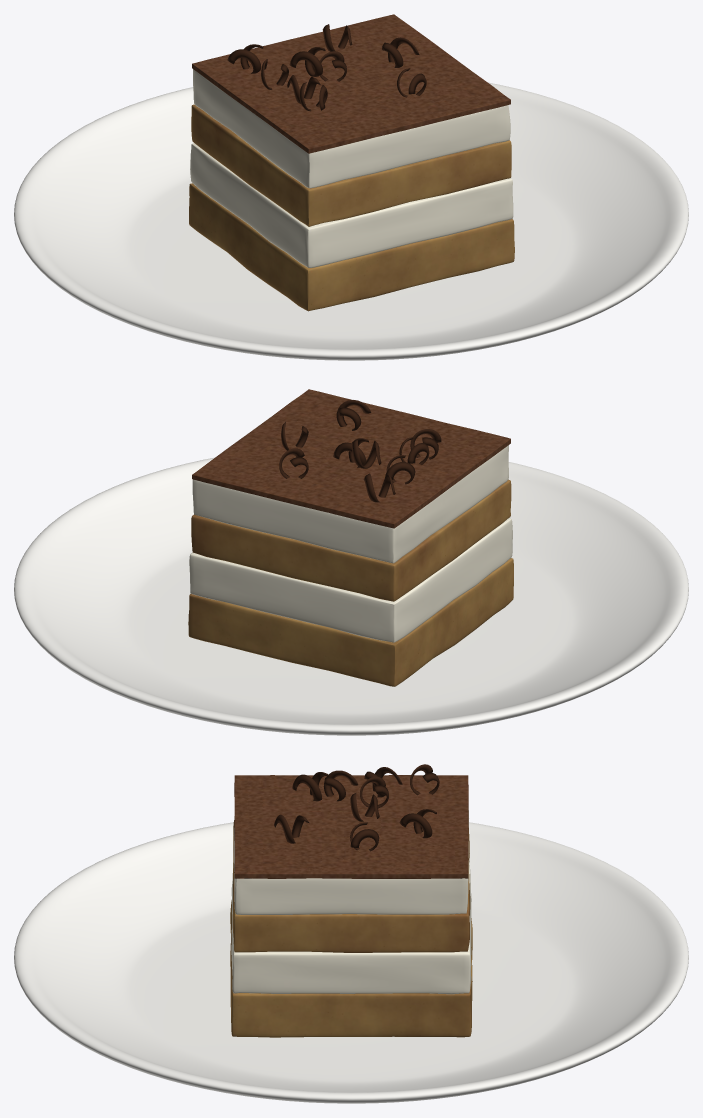
The model's file is tiramisu.glb.
The picture shows the model from 3 angles, top to bottom: view 1: azimuth 30°, elevation 25°; view 2: azimuth 150°, elevation 25°; view 3: azimuth 270°, elevation 25°; orthographic projection.
Parts seen in each view (by area): view 1: base, cocoa, sponge, mascarpone, sponge-2, mascarpone-2, choc-shavings; view 2: base, cocoa, sponge, mascarpone, sponge-2, mascarpone-2, choc-shavings; view 3: base, cocoa, sponge, mascarpone, sponge-2, mascarpone-2, choc-shavings.
Boxes of the visible parts, x1,y1,x2,y2 form: base: [14, 82, 688, 360]; cocoa: [192, 14, 510, 153]; sponge: [189, 183, 514, 311]; mascarpone: [190, 143, 513, 267]; sponge-2: [191, 104, 511, 226]; mascarpone-2: [193, 69, 510, 188]; choc-shavings: [227, 24, 426, 111]; base: [14, 457, 688, 735]; cocoa: [192, 389, 510, 528]; sponge: [188, 558, 513, 686]; mascarpone: [189, 518, 512, 642]; sponge-2: [191, 479, 511, 601]; mascarpone-2: [192, 445, 508, 563]; choc-shavings: [279, 400, 441, 502]; base: [14, 822, 688, 1103]; cocoa: [234, 775, 468, 878]; sponge: [230, 900, 472, 1037]; mascarpone: [231, 861, 471, 994]; sponge-2: [232, 820, 470, 952]; mascarpone-2: [234, 810, 468, 914]; choc-shavings: [274, 764, 439, 851].
Size of the model in its own units: 0.2182 by 0.0788 by 0.2182.
7 materials, 5 textured.
